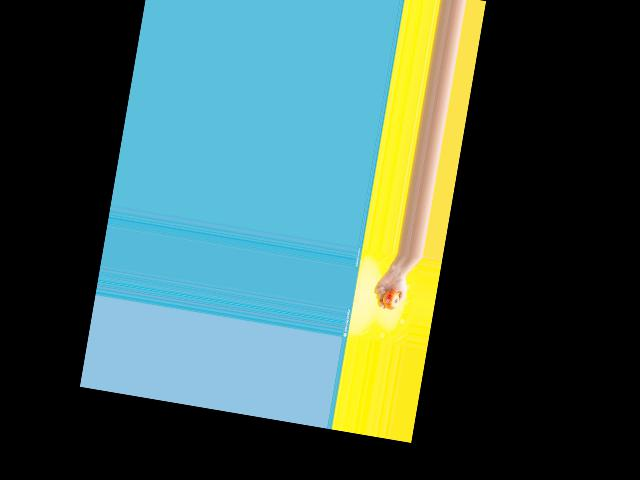tomato: (381, 288, 400, 310)
